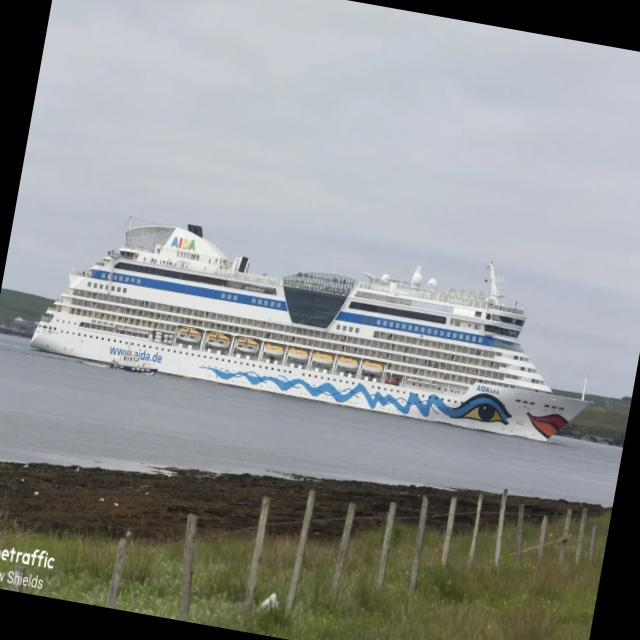Cruise: (30, 224, 584, 440)
